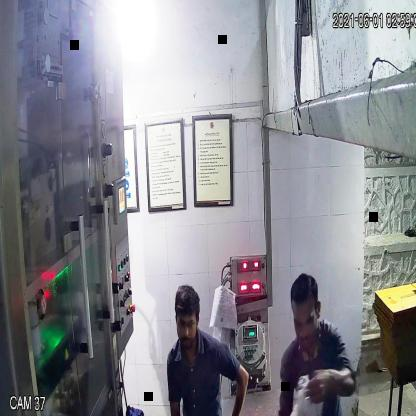no_goggles: (289, 309, 324, 334), (174, 311, 202, 334)
